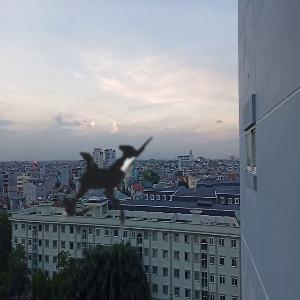drone: (15, 86, 208, 279)
